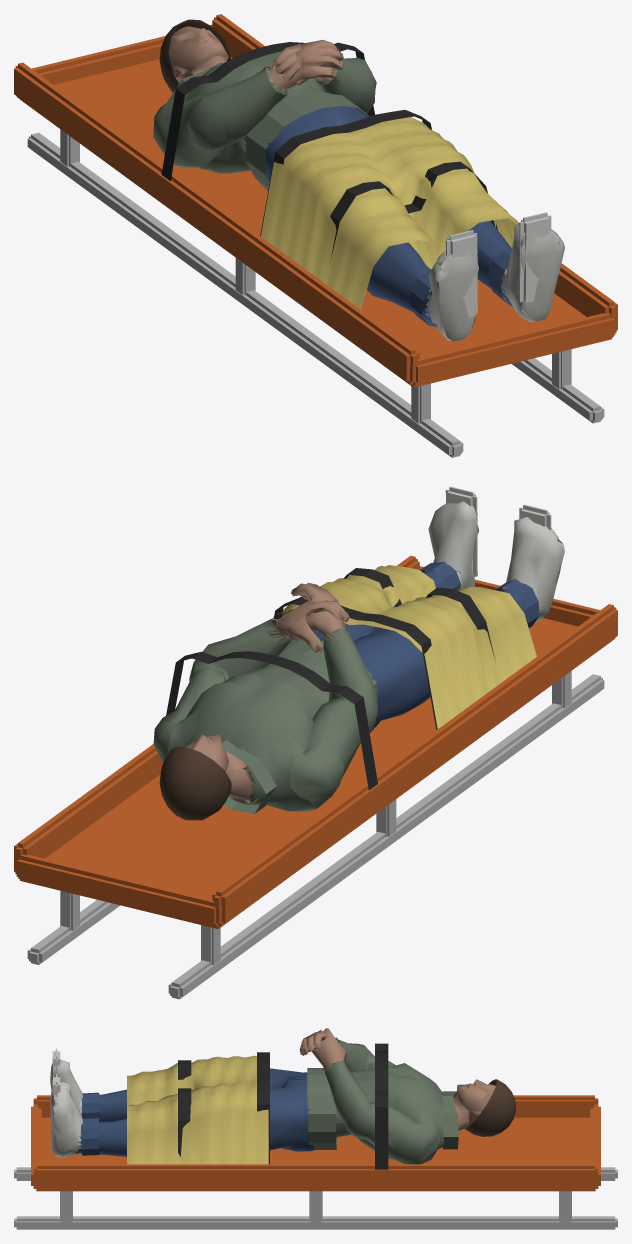
Rendered from driver-stretcher.glb.
3 views of the same model, one above another, from view 1: azimuth 30°, elevation 25°; view 2: azimuth 150°, elevation 25°; view 3: azimuth 270°, elevation 25° (orthographic). The views are drawn at different scales.
Visible parts, largest first — view 1: driver-stretcher; view 2: driver-stretcher; view 3: driver-stretcher.
Boxes of the visible parts, box(x1,y1,x2,y2) form: driver-stretcher: box(14, 14, 617, 457); driver-stretcher: box(14, 486, 617, 999); driver-stretcher: box(14, 1028, 617, 1229).
Size of the model in its own units: 0.66 by 0.7232 by 2.3.
